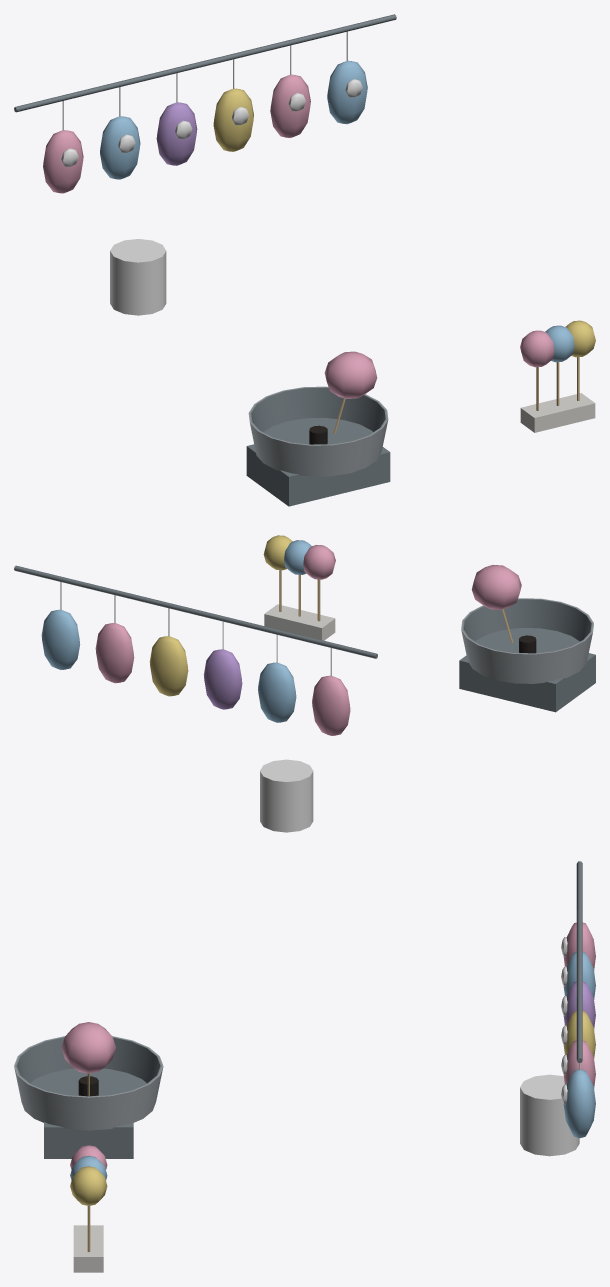
The model's file is goods_wataame.glb.
3 renders of one model, top to bottom at view 1: azimuth 30°, elevation 25°; view 2: azimuth 150°, elevation 25°; view 3: azimuth 270°, elevation 25°, orthographic. The views are drawn at different scales.
Visible parts, largest first — view 1: goods_wataame; view 2: goods_wataame; view 3: goods_wataame.
Boxes of the visible parts, left/top/right/bottom form: goods_wataame: left=14, top=14, right=595, bottom=506; goods_wataame: left=14, top=535, right=595, bottom=832; goods_wataame: left=14, top=861, right=595, bottom=1272.
Bounding box in the file's own units: 1.87 × 1.04 × 2.34.
